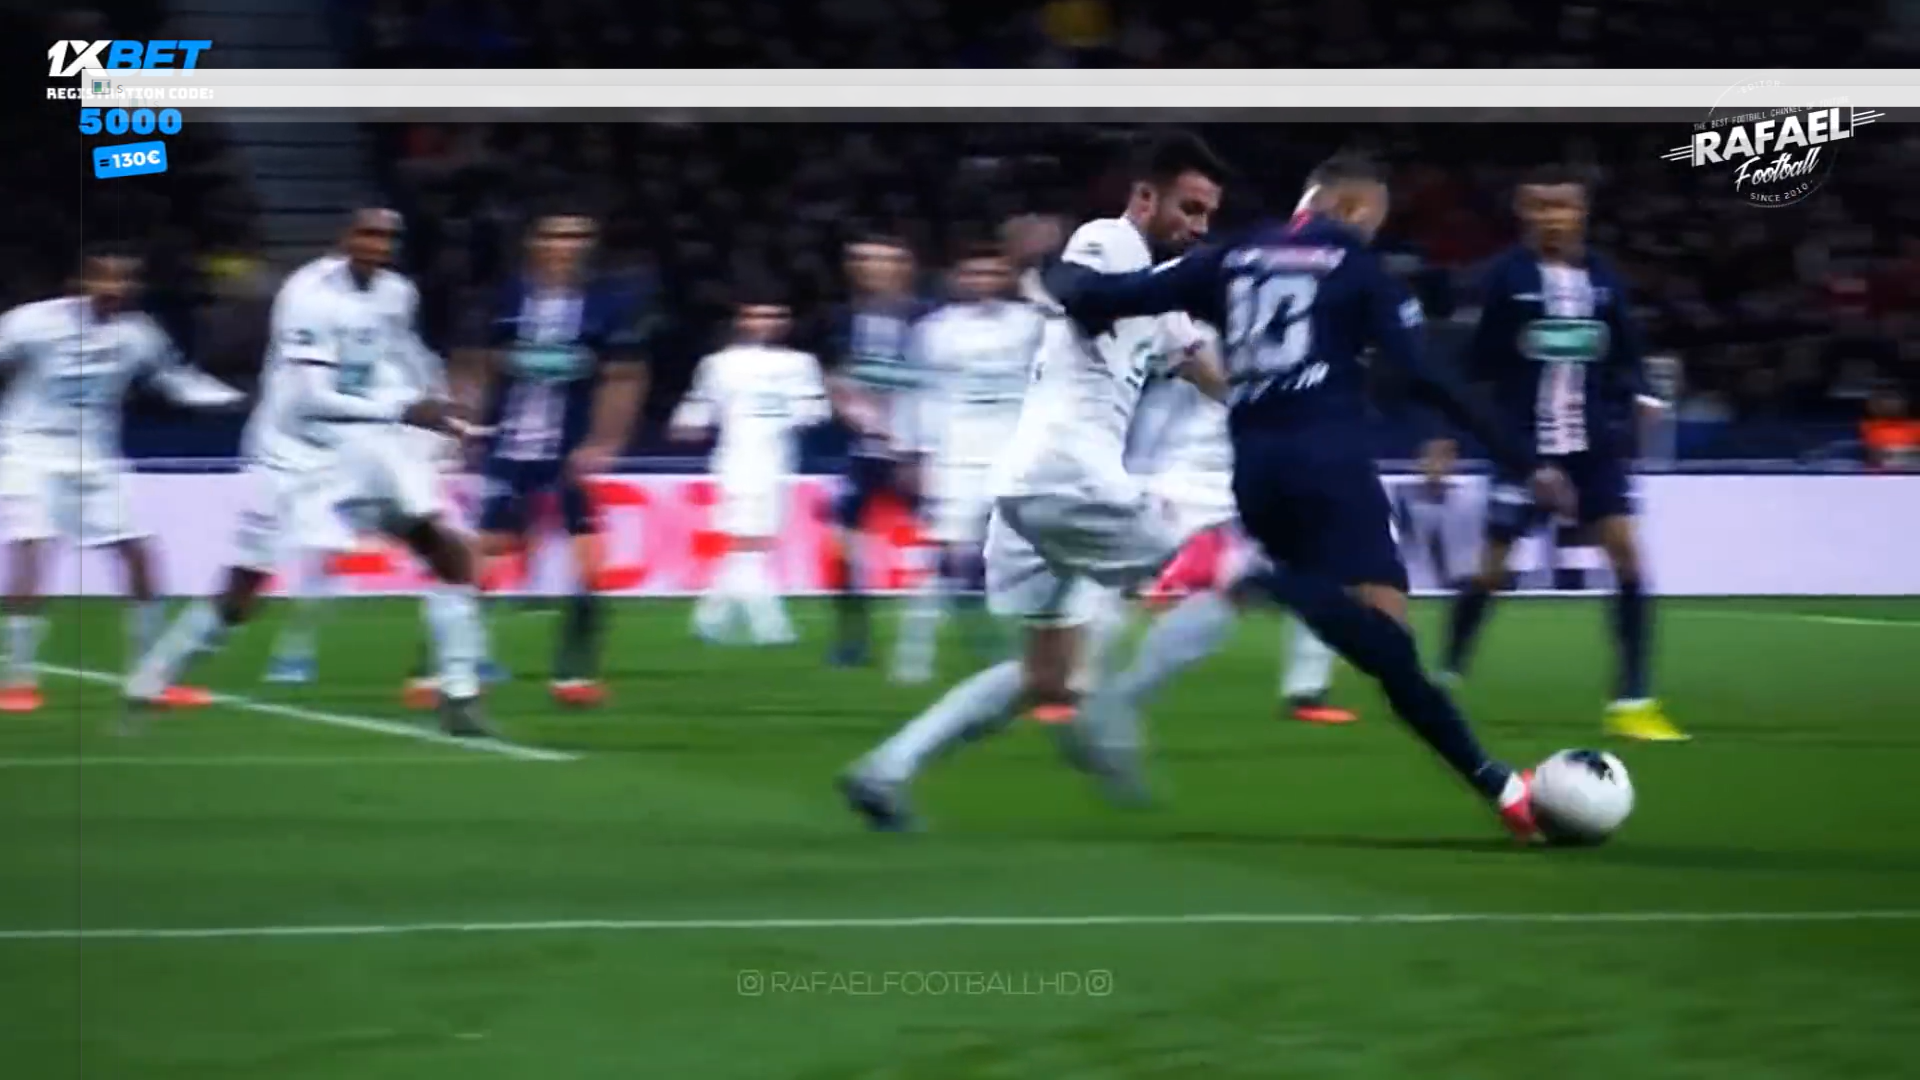ft: (1524, 742, 1636, 849)
